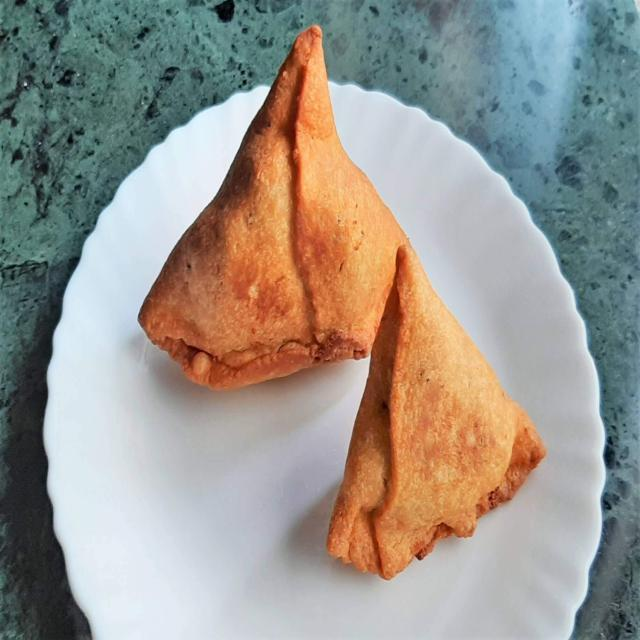SAMOSA: (137, 24, 548, 583)
